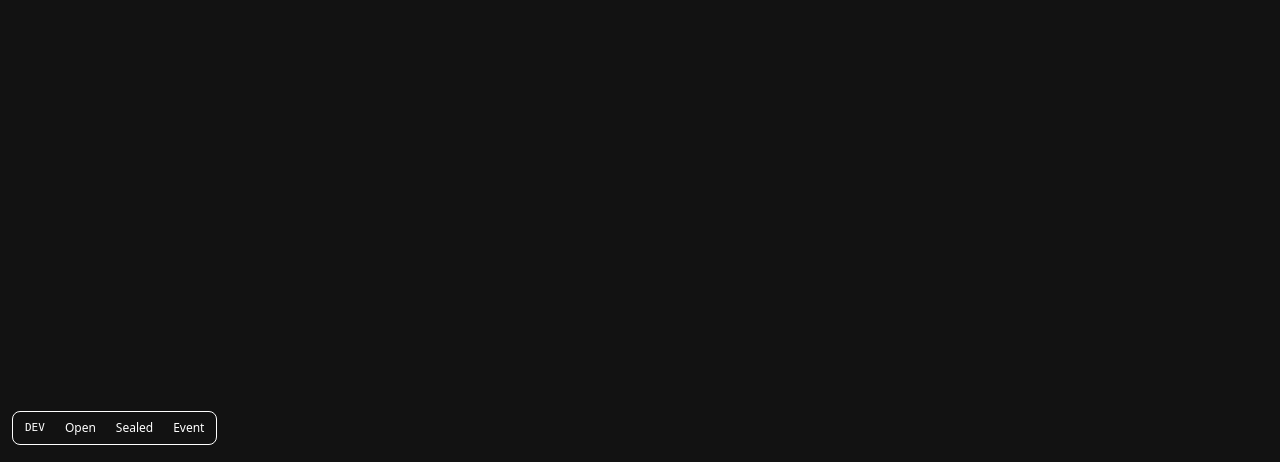
dev tools › extension pages › says how to start the preview server when it isn't running
Click the button with aria-label "Show dev tools" at (35, 428), box [17,416,53,440]
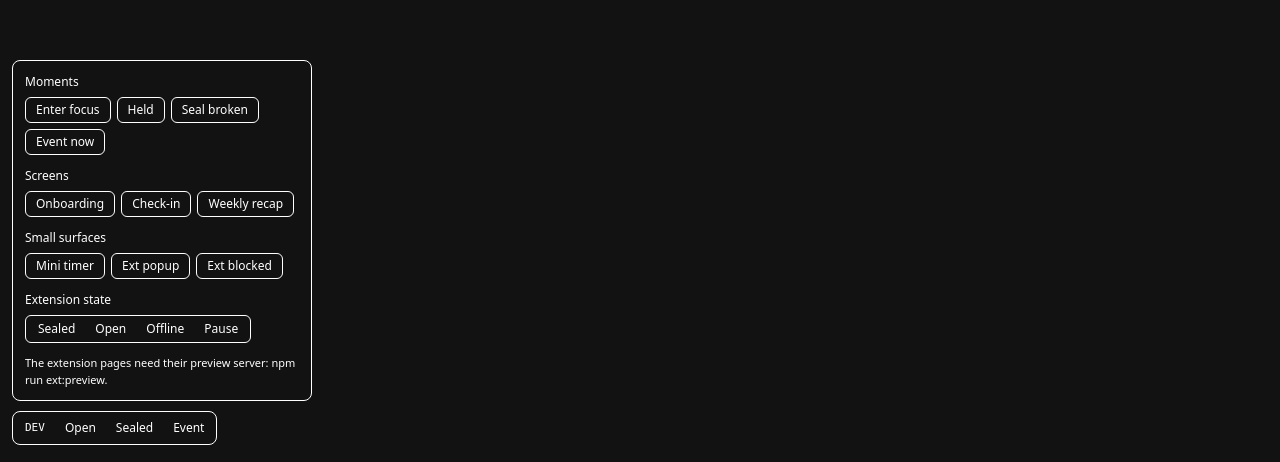
Click the button "Ext blocked" at (240, 266), box [196,253,283,279]
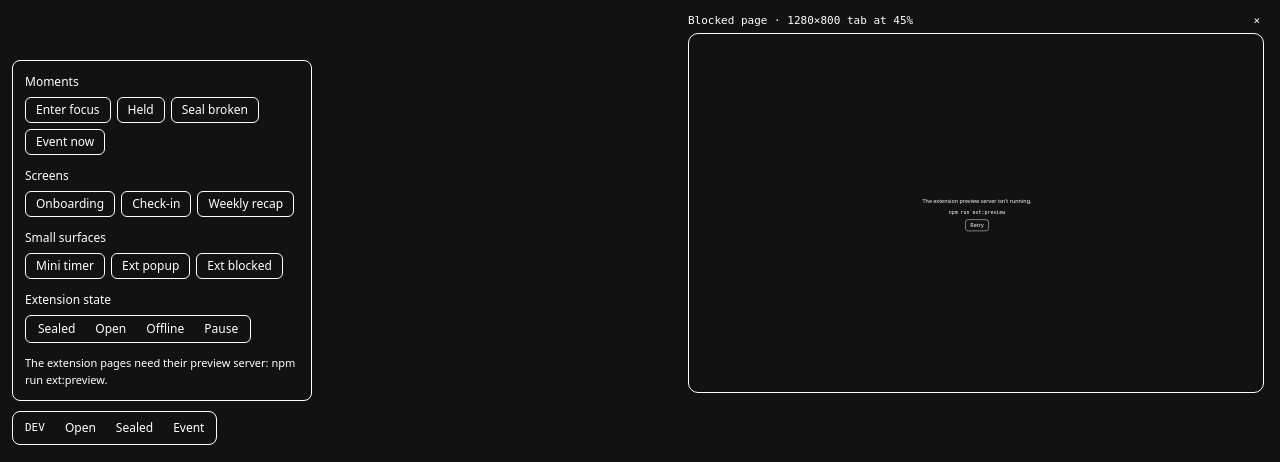
Expected: the text "The extension preview server isn't running." is shown, [923,197,1032,205]
Expected: the text "npm run ext:preview" is shown, [949,208,1005,216]
